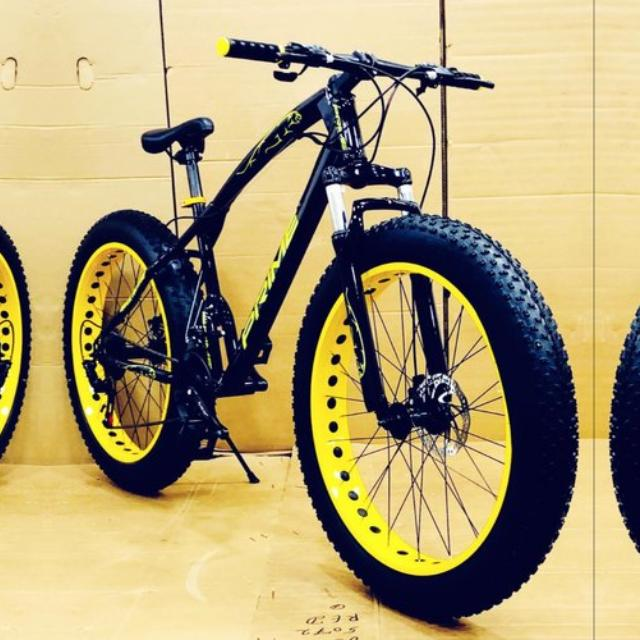obstacle: (54, 17, 594, 628), (593, 17, 640, 628), (0, 17, 37, 628)
